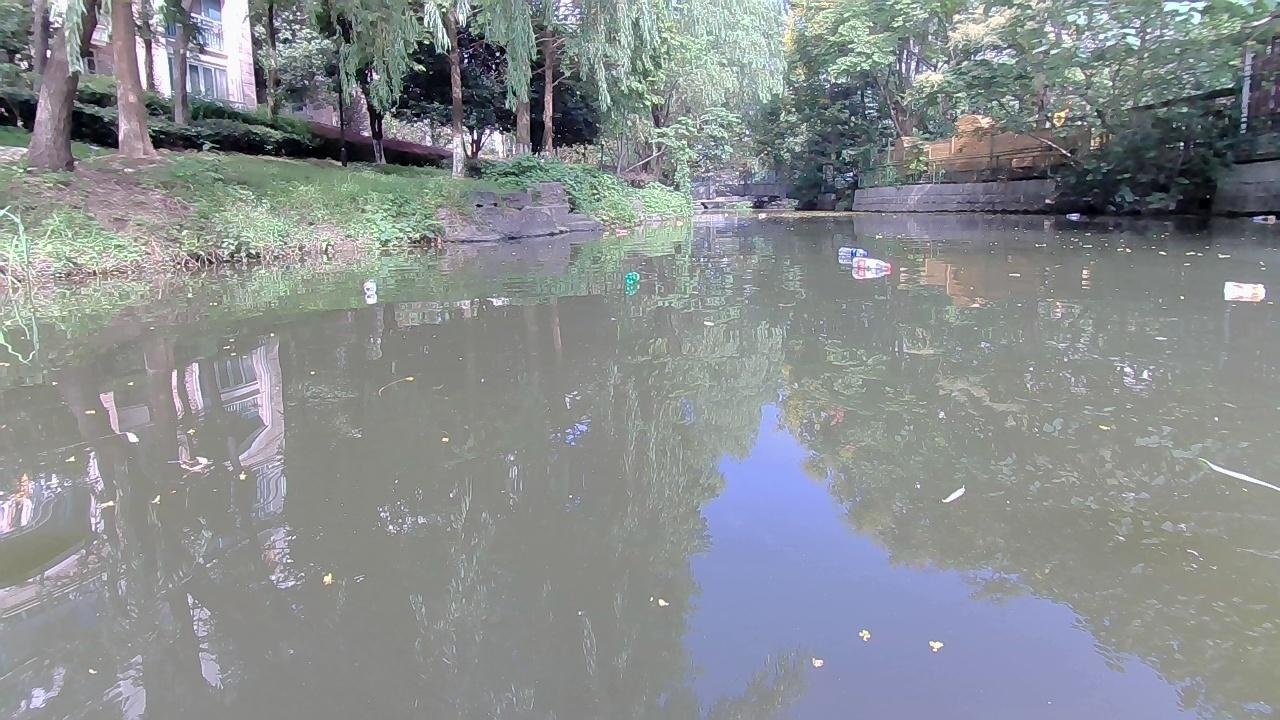bottle: (1214, 278, 1266, 300), (851, 260, 893, 278), (835, 245, 866, 261), (1248, 211, 1274, 227), (358, 277, 376, 294), (612, 225, 633, 233), (622, 272, 637, 283), (1065, 211, 1080, 218)
